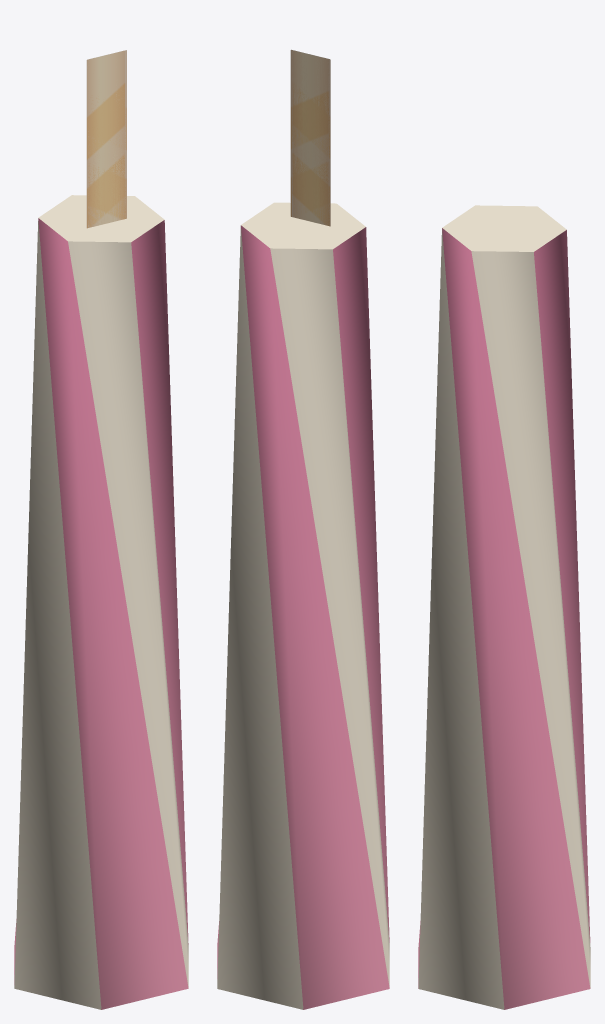
Rendered from Candle_A_05.FBX.
3 renders of one model, left to right at view 1: azimuth 30°, elevation 25°; view 2: azimuth 150°, elevation 25°; view 3: azimuth 270°, elevation 25°, orthographic.
Visible parts, largest first — view 1: Candle; view 2: Candle; view 3: Candle.
Boxes of the visible parts, x1,y1,x2,y2 form: Candle: (14,50,188,1009); Candle: (217,49,389,1009); Candle: (418,205,590,1009).
Size of the model in its own units: 7.85 by 40.96 by 6.8.
